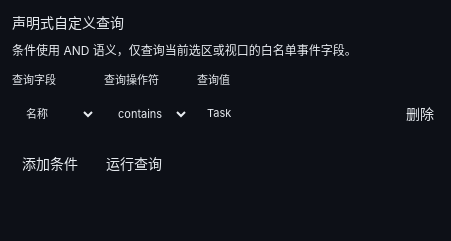
it: CustomQueryPanel › clears old-range results when the selected range changes
Click the button with aria-label "运行自定义查询" at (134, 164), box [96, 144, 172, 184]
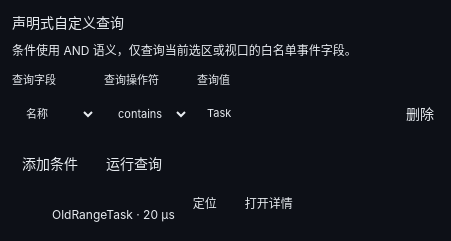
expect the text "OldRangeTask · 20 μs" is shown: met, box [52, 206, 175, 224]
